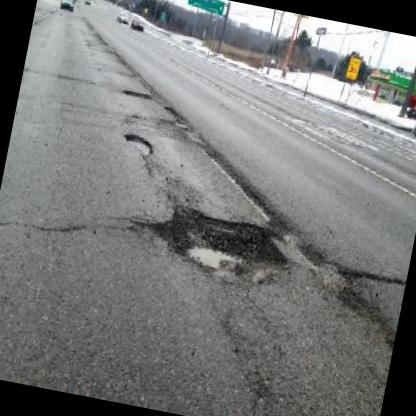pothole: (146, 198, 296, 284), (117, 128, 156, 158), (120, 87, 153, 100)
